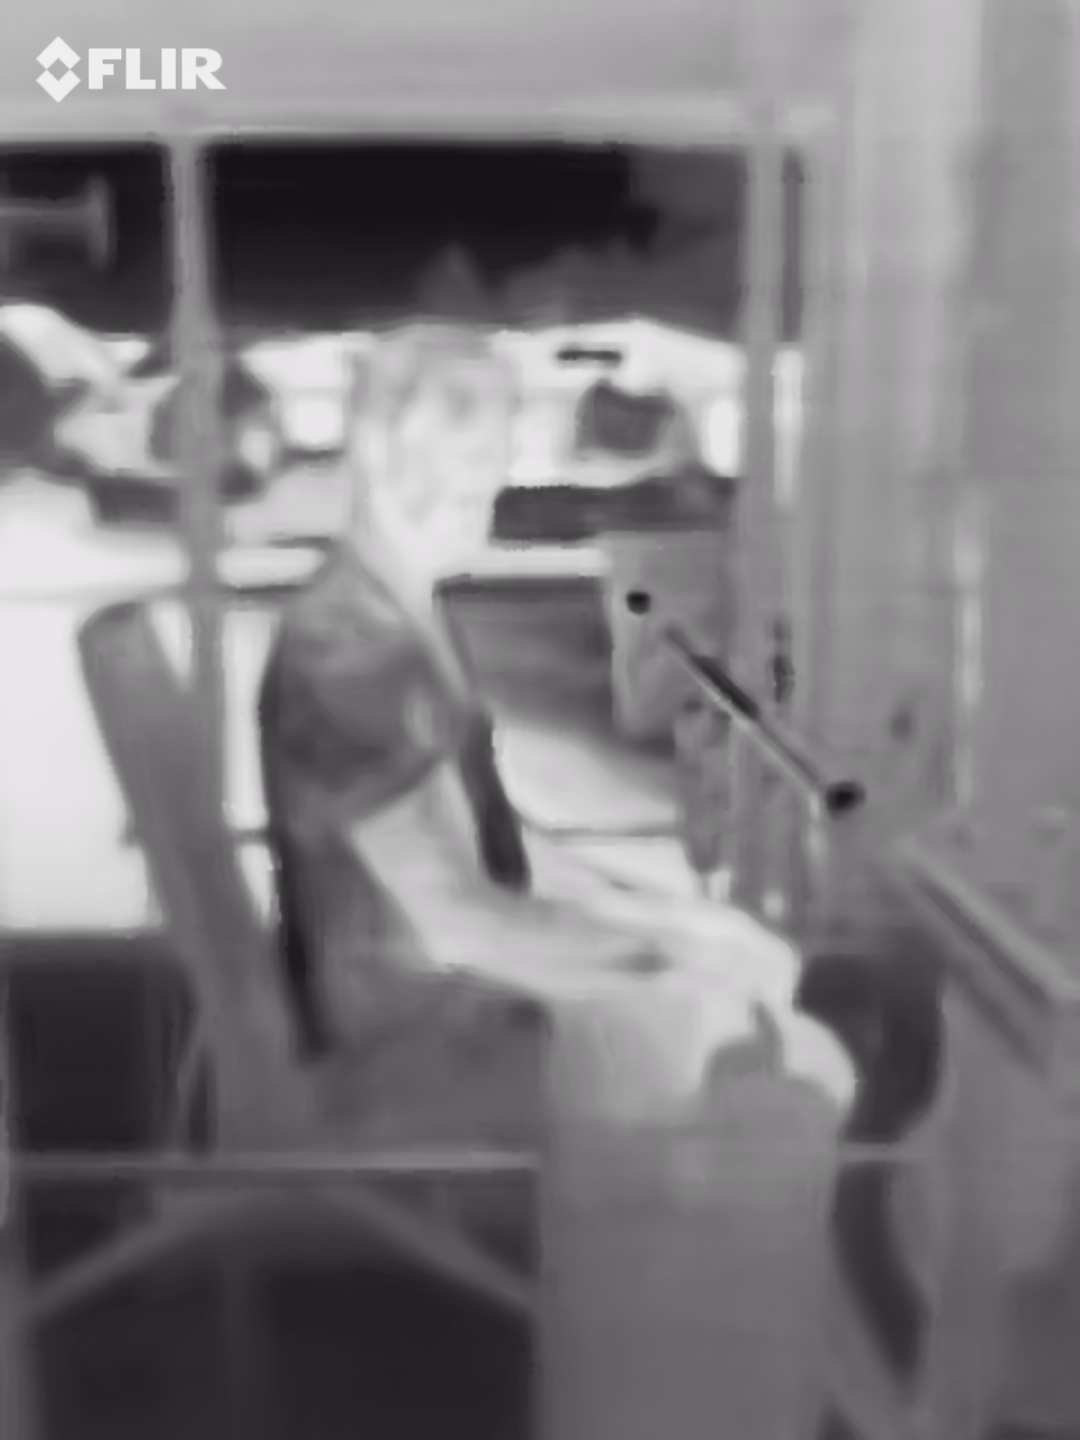head: (339, 322, 518, 583)
